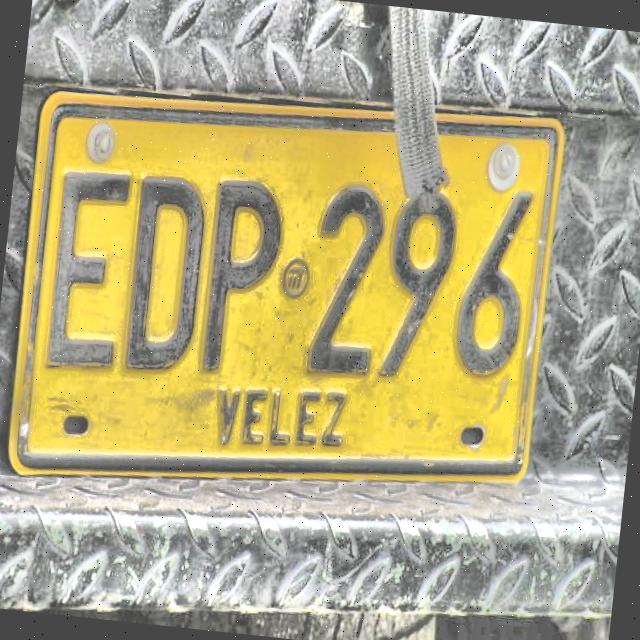plate: (19, 98, 558, 473)
